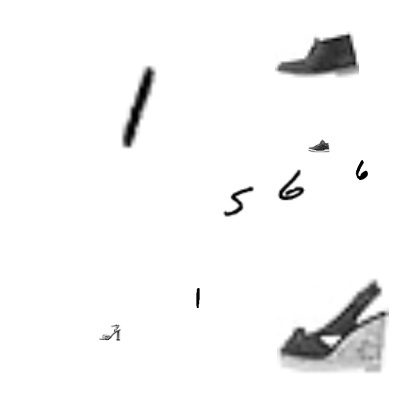1: (79, 51, 191, 163), (183, 283, 211, 311)
5: (216, 179, 258, 221)
6: (269, 167, 311, 209), (347, 158, 375, 186)
Ankle_boot: (275, 11, 359, 95)
Bag: (173, 147, 187, 161)
Sandal: (277, 268, 389, 380), (99, 321, 121, 343)
Sneaker: (308, 135, 330, 157)
